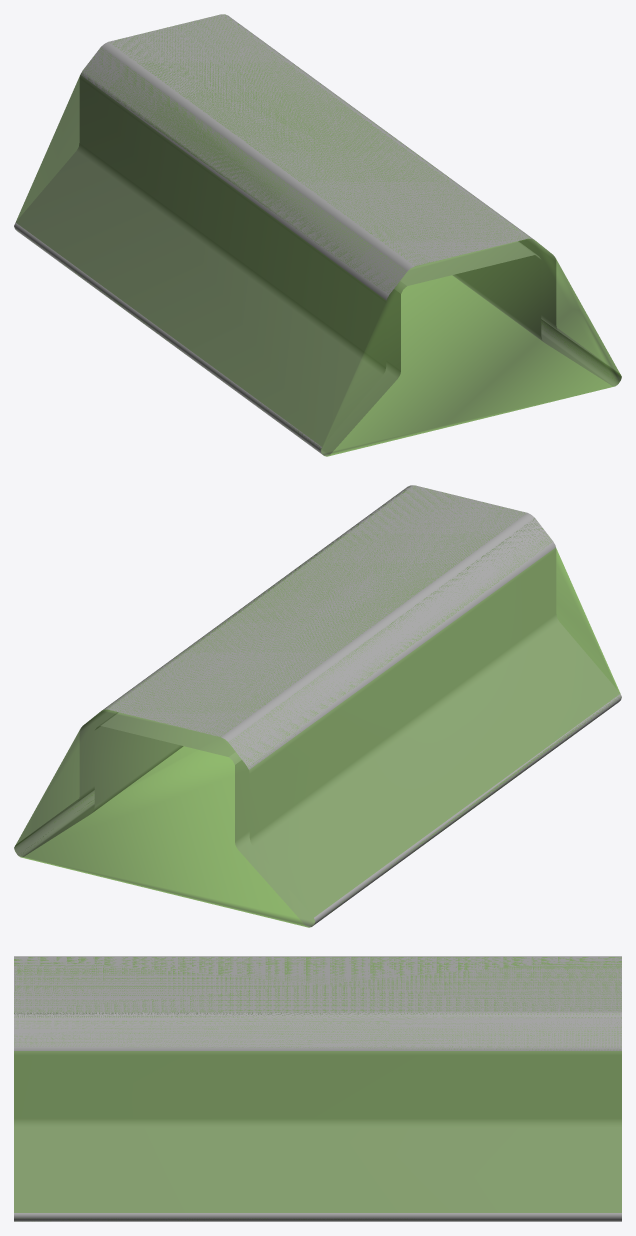
File: M_md_StallTL_1m_01.fbx
3 renders of one model, top to bottom at view 1: azimuth 30°, elevation 25°; view 2: azimuth 150°, elevation 25°; view 3: azimuth 270°, elevation 25°, orthographic.
Parts seen in each view (by area): view 1: M_md_StallTL_1m_01_col_01, M_md_StallTL_1m_01_LOD0; view 2: M_md_StallTL_1m_01_LOD0, M_md_StallTL_1m_01_col_01; view 3: M_md_StallTL_1m_01_LOD0, M_md_StallTL_1m_01_col_01.
Part boxes in pixels (x1,y1,x2,y2): M_md_StallTL_1m_01_col_01: [16, 14, 621, 456]; M_md_StallTL_1m_01_LOD0: [14, 14, 621, 456]; M_md_StallTL_1m_01_LOD0: [14, 485, 621, 927]; M_md_StallTL_1m_01_col_01: [14, 486, 620, 927]; M_md_StallTL_1m_01_LOD0: [14, 956, 621, 1221]; M_md_StallTL_1m_01_col_01: [14, 957, 621, 1221].
Size of what is drawn, in the model's own units: 56.75 by 30.42 by 100.
